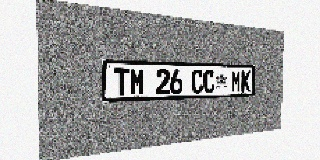2: (156, 69, 170, 95)
6: (170, 69, 183, 94)
C: (191, 70, 203, 94), (203, 70, 215, 93)
K: (241, 71, 251, 92)
M: (130, 68, 145, 96), (231, 70, 241, 92)
T: (114, 68, 129, 96)
